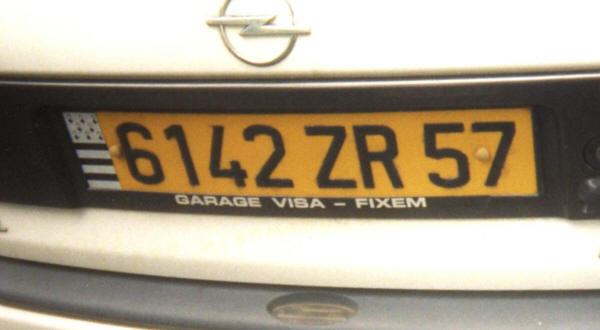license_plate: (57, 104, 542, 201)
